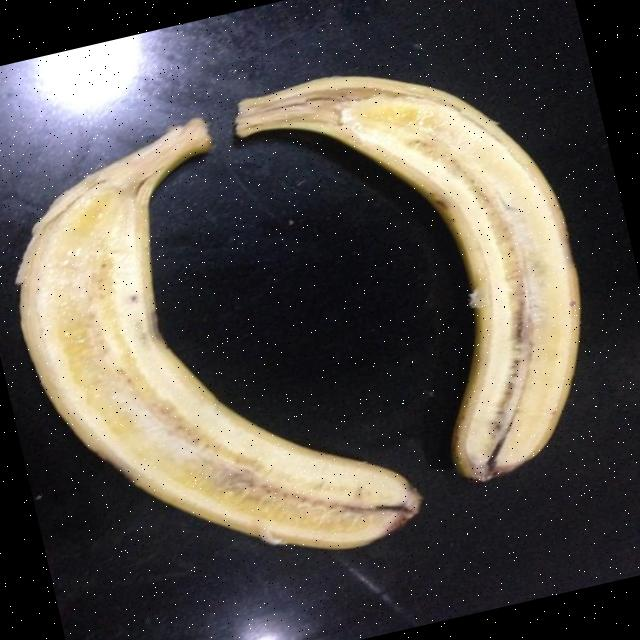banana-peel: (0, 83, 430, 611), (224, 28, 619, 520)
